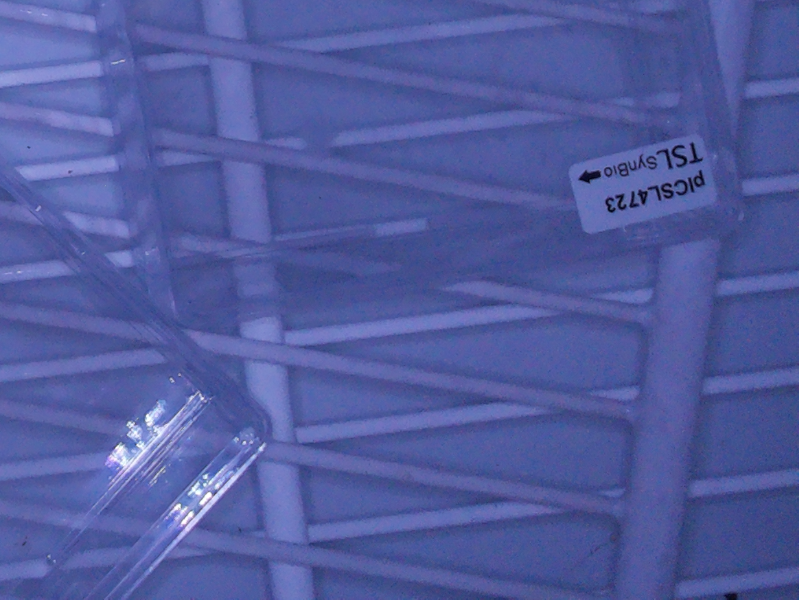plate: (88, 1, 750, 332), (1, 161, 276, 600)
